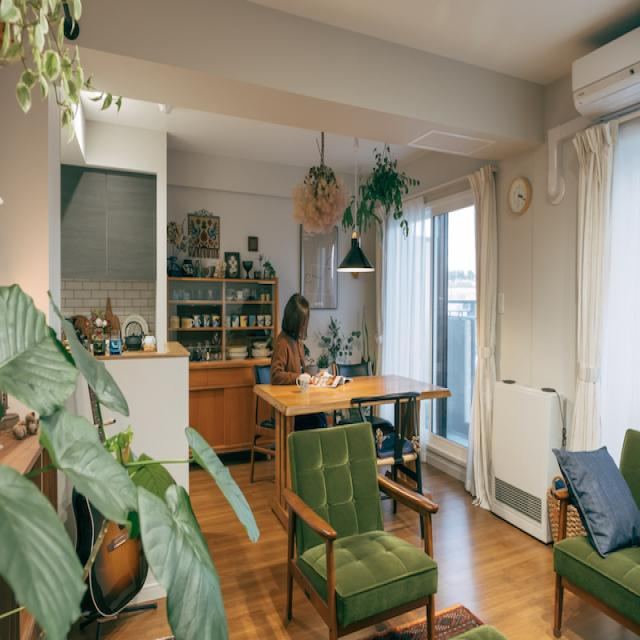vintage chair: (286, 425, 438, 638), (556, 425, 640, 640)
vintage desk: (251, 372, 452, 431)
vintage shelf: (168, 272, 278, 364)
